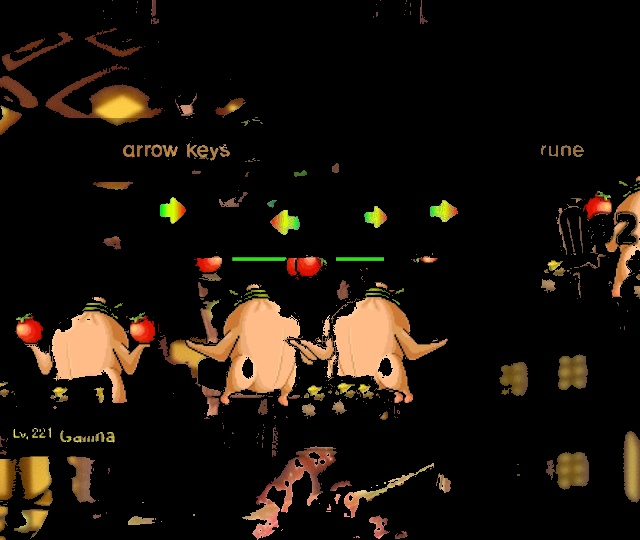left: (263, 205, 305, 239)
right: (154, 193, 193, 227), (424, 195, 463, 228), (360, 203, 392, 231)
